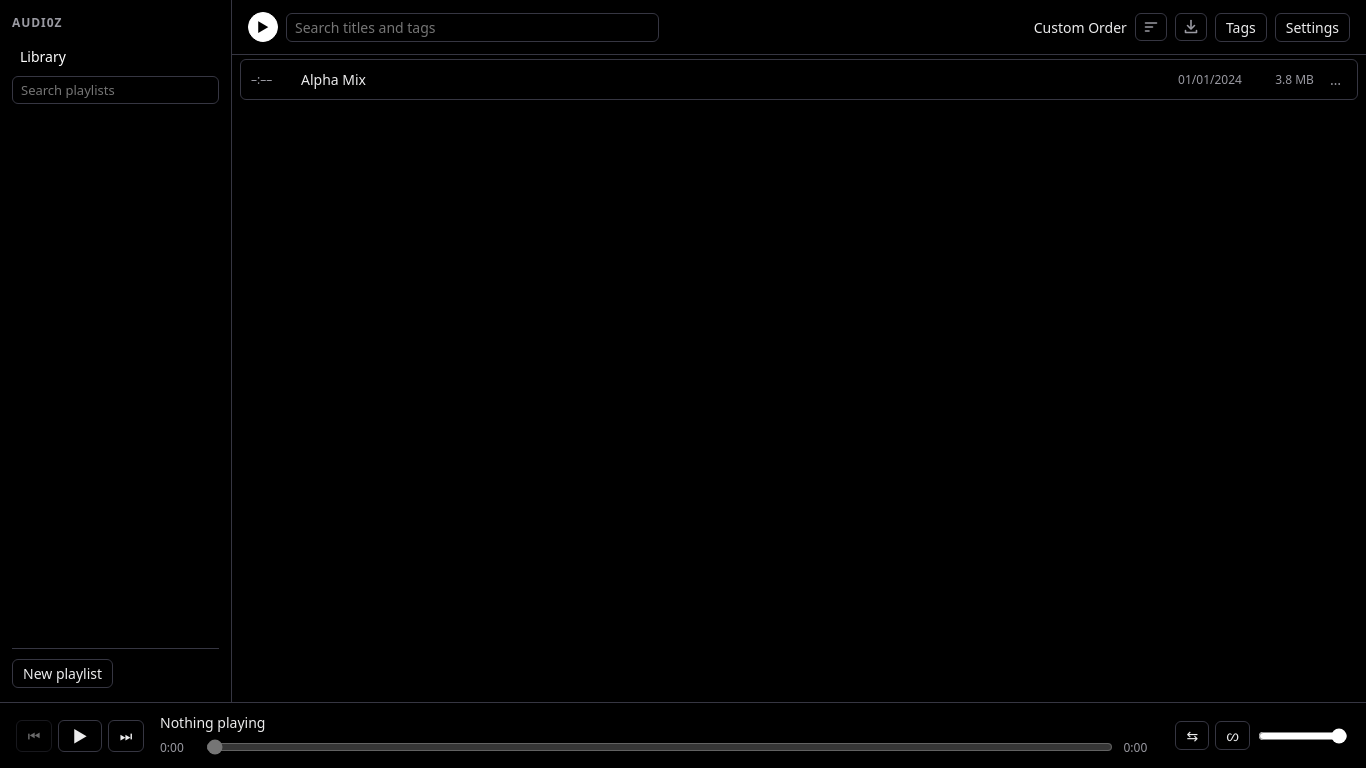
Test: SettingsDialog storage › says so when the folder cannot be opened
The image size is (1366, 768).
Click the button "Settings": coordinates (1312, 27) 1275,12 -> 1350,42
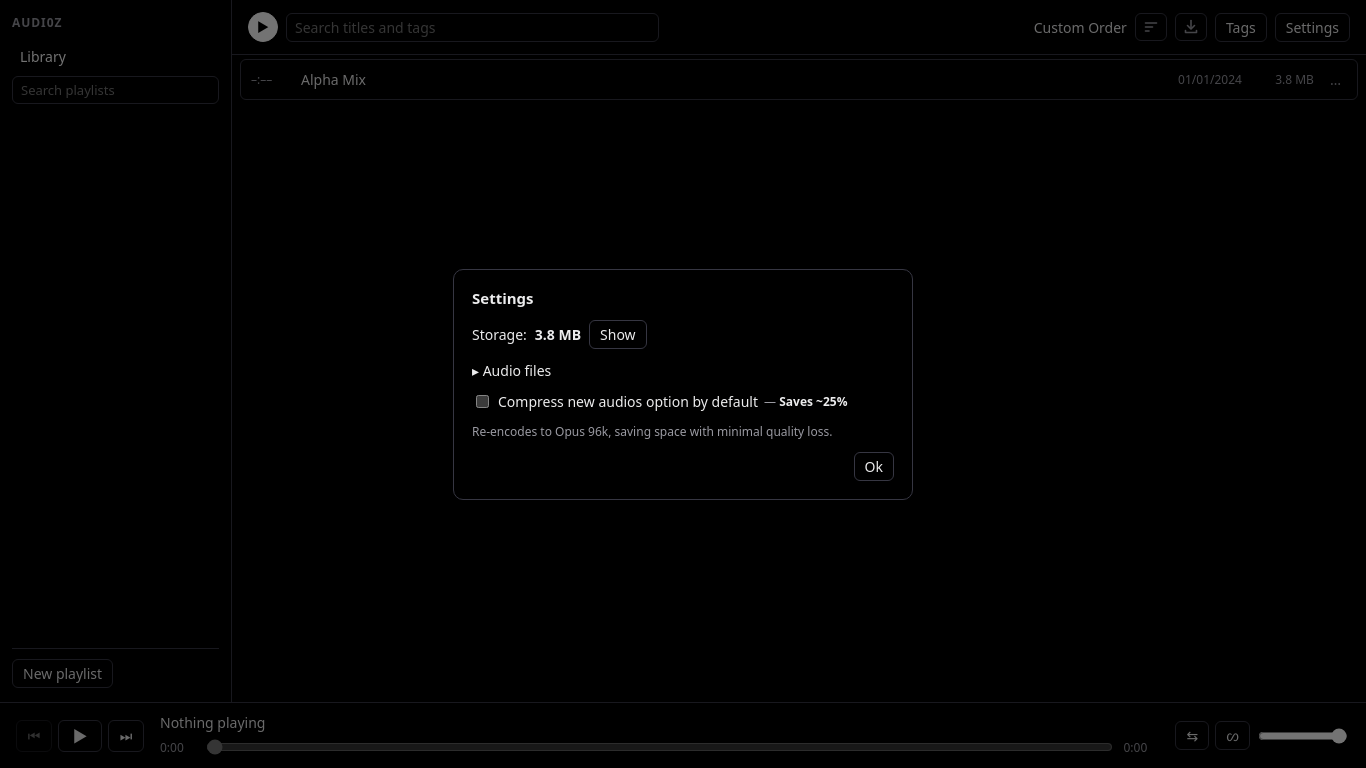
Click the button "Show": coordinates (618, 334) 589,320 -> 647,348
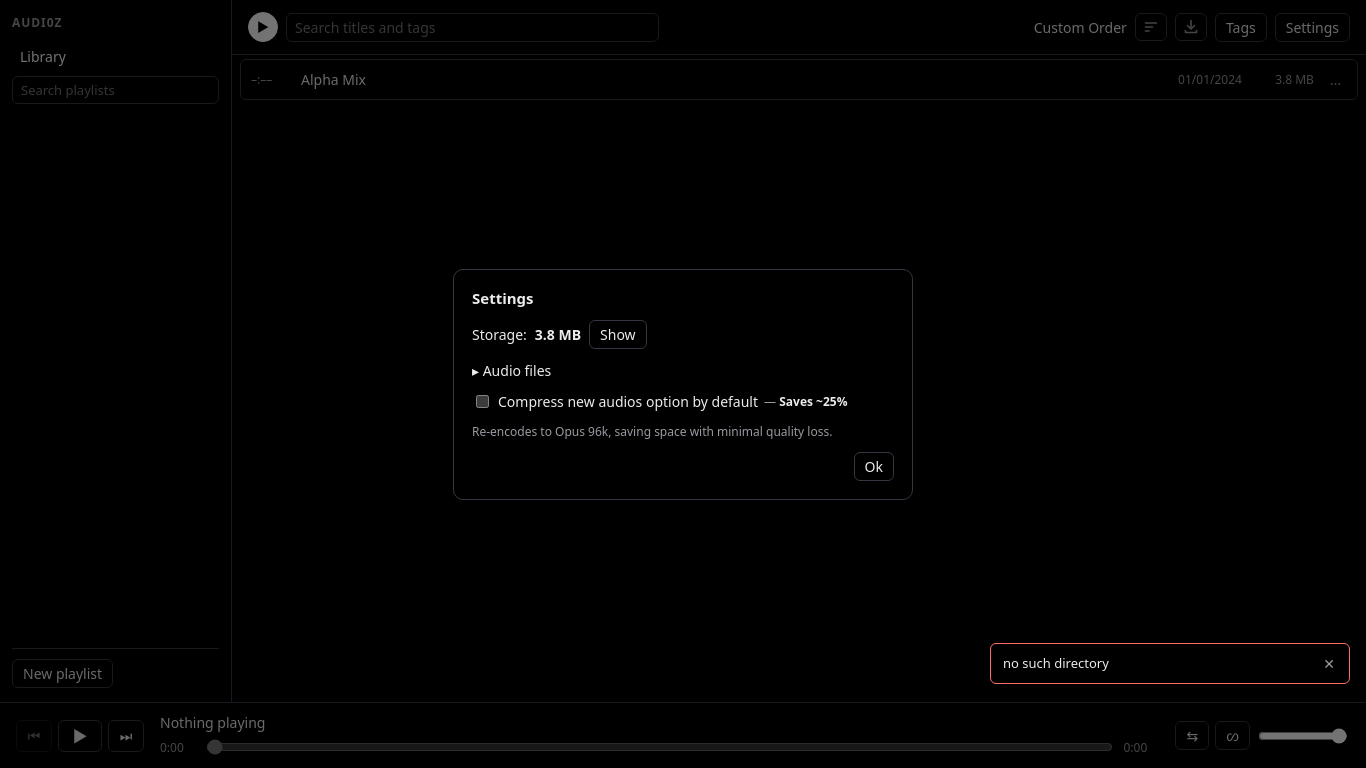
expect the message shows "no such directory": met, box 1003,654 -> 1109,672
